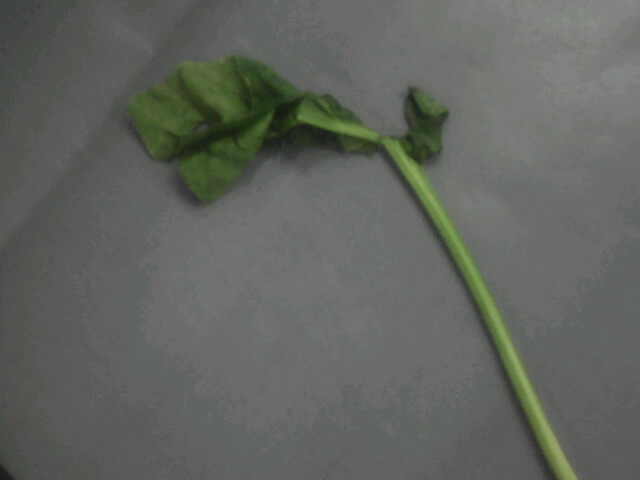yellow: (96, 34, 467, 220)
